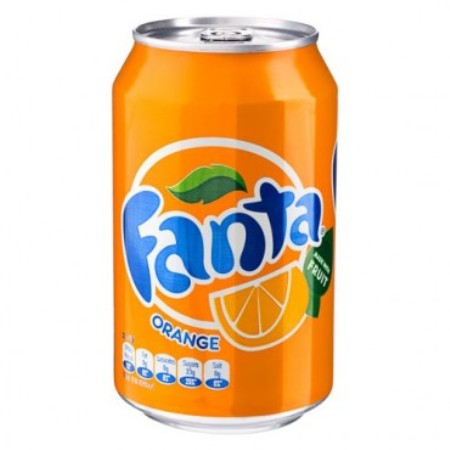fanta_can: (110, 15, 340, 432)
